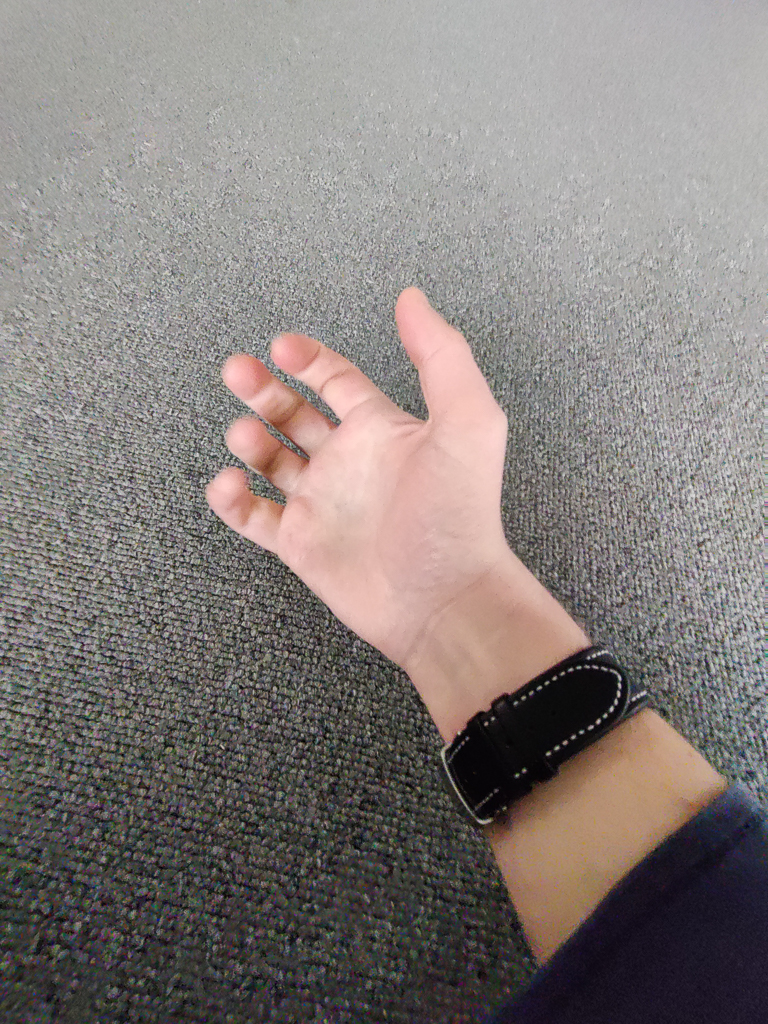Humanoid: (196, 272, 768, 1024)
